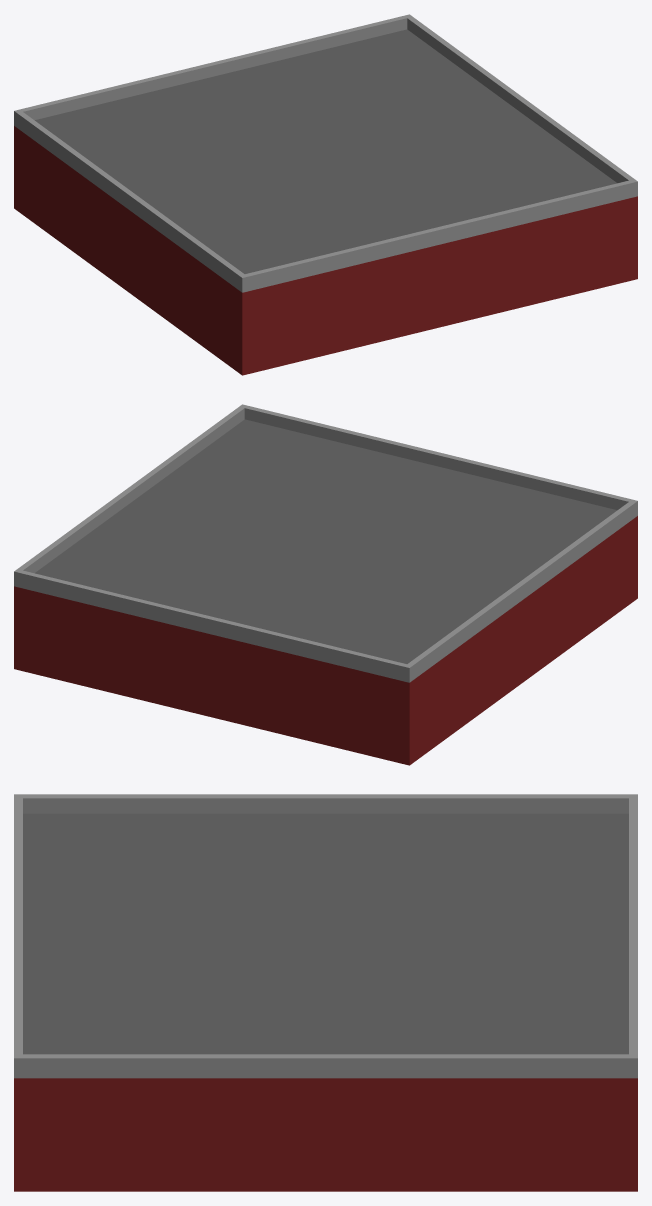
File: Building_35_35_70.FBX
The picture shows the model from 3 angles, top to bottom: view 1: azimuth 30°, elevation 25°; view 2: azimuth 150°, elevation 25°; view 3: azimuth 270°, elevation 25°; orthographic projection. The views are drawn at different scales.
Visible parts, largest first — view 1: BakedBuilding_2014741032831182; view 2: BakedBuilding_2014741032831182; view 3: BakedBuilding_2014741032831182.
Part boxes in pixels (left/top/right/bottom): BakedBuilding_2014741032831182: left=14, top=14, right=637, bottom=375; BakedBuilding_2014741032831182: left=14, top=404, right=637, bottom=765; BakedBuilding_2014741032831182: left=14, top=794, right=637, bottom=1191.
Size of the model in its own units: 3500 by 825 by 3500.
